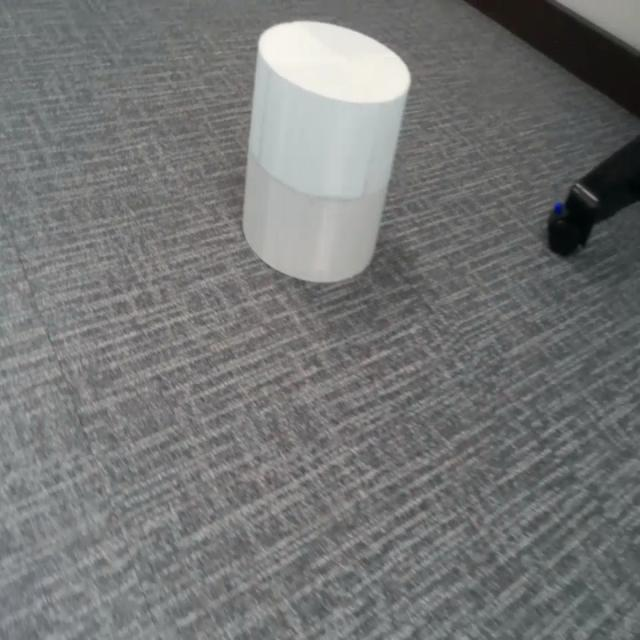cylinder: (242, 19, 412, 284)
